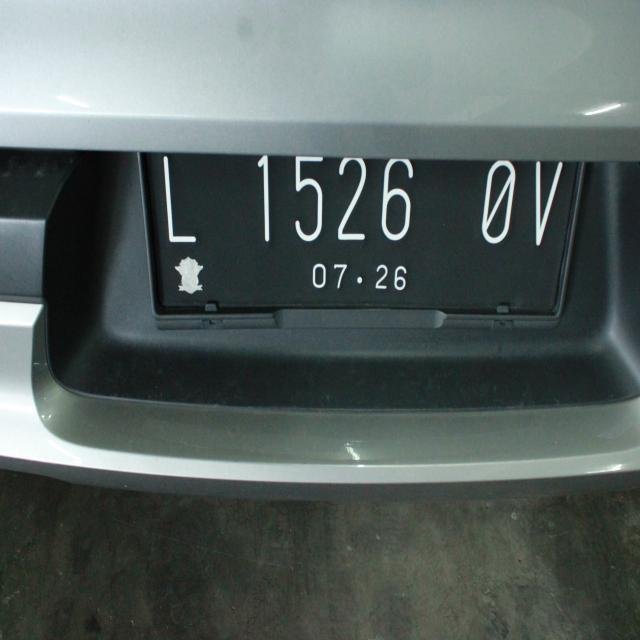1: (240, 150, 284, 246)
2: (328, 140, 374, 248)
5: (279, 140, 329, 246)
6: (374, 142, 418, 246)
L: (142, 148, 204, 251)
O: (467, 144, 523, 252)
V: (520, 144, 568, 258)
